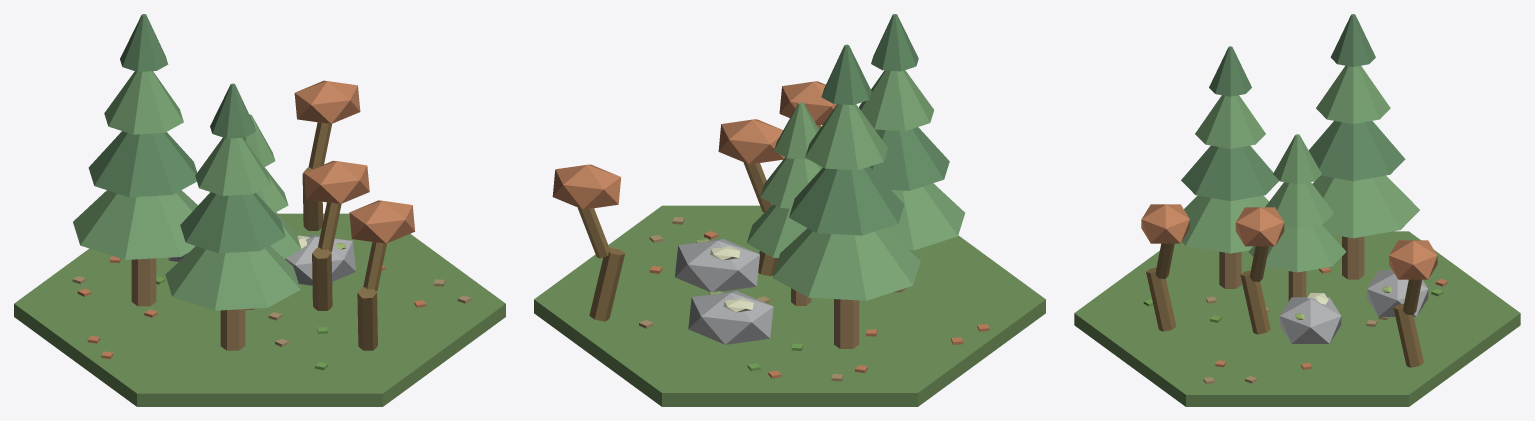
File: forest_to_mountain.glb
The picture shows the model from 3 angles, left to right: view 1: azimuth 30°, elevation 25°; view 2: azimuth 150°, elevation 25°; view 3: azimuth 270°, elevation 25°; orthographic projection. The views are drawn at different scales.
Parts seen in each view (by area): view 1: plate; view 2: plate; view 3: plate.
Part boxes in pixels (x1,y1,x2,y2): plate: (14,14,505,406); plate: (534,14,1045,406); plate: (1074,14,1520,406).
Size of the model in its own units: 1.73 by 1.35 by 2.
